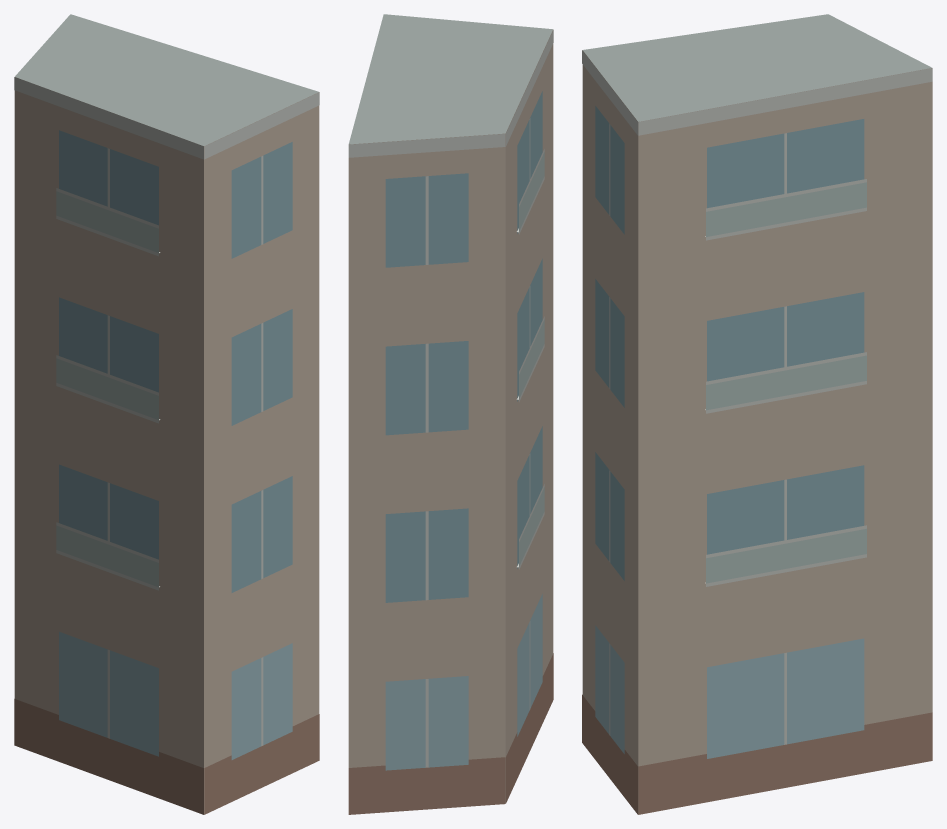
File: survey-upis-33014932.glb
3 views of the same model, side by side, from view 1: azimuth 30°, elevation 25°; view 2: azimuth 150°, elevation 25°; view 3: azimuth 270°, elevation 25° (orthographic). The views are drawn at different scales.
Parts seen in each view (by area): view 1: survey-upis-33014932.tmp; view 2: survey-upis-33014932.tmp; view 3: survey-upis-33014932.tmp.
Part boxes in pixels (x1,y1,x2,y2): survey-upis-33014932.tmp: (14,14,319,814); survey-upis-33014932.tmp: (348,14,553,814); survey-upis-33014932.tmp: (582,14,932,814).
Size of the model in its own units: 4.08 by 12.2 by 5.6.
